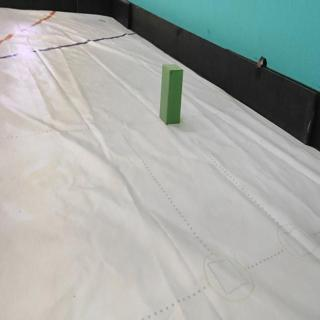greenbox: (158, 63, 184, 125)
